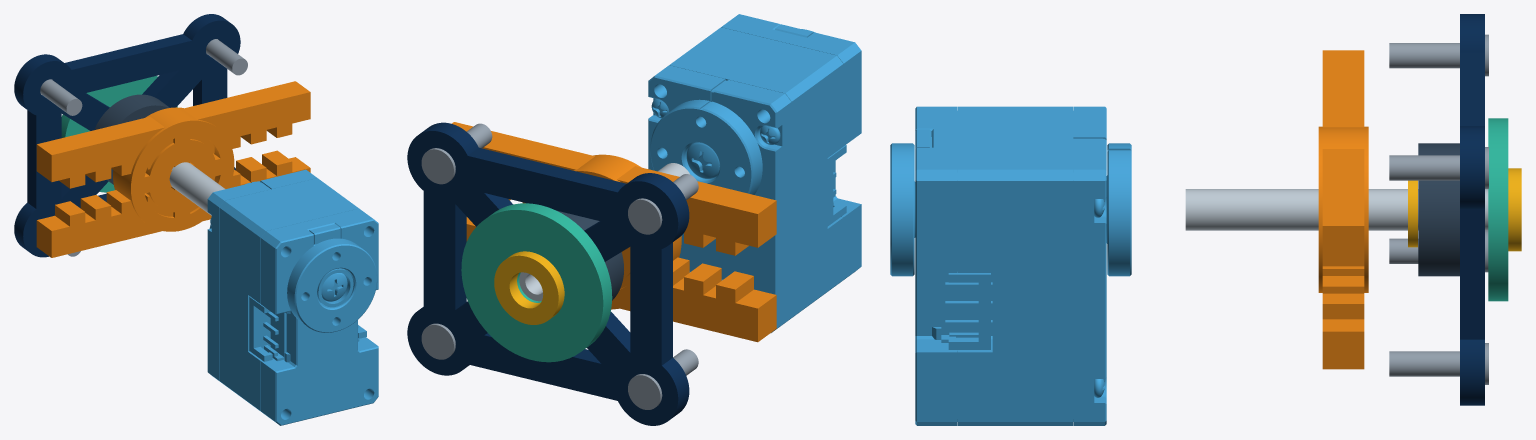
The model's file is JMF-02-GRIPPER_assembly.glb.
3 views of the same model, side by side, from view 1: azimuth 30°, elevation 25°; view 2: azimuth 150°, elevation 25°; view 3: azimuth 270°, elevation 25° (orthographic). The views are drawn at different scales.
Parts seen in each view (by area): view 1: ACTUATOR, CARRIER_B, RACK_UPPER, PINION, RACK_LOWER, OUTPUT_SHAFT, OUTPUT_ENCODER_CARRIER, BEARING_B, CARRIER_B_SCREW_22, CARRIER_B_SCREW_12; view 2: ACTUATOR, CARRIER_B, OUTPUT_ENCODER_CARRIER, RACK_UPPER, RACK_LOWER, OUTPUT_MAGNET_HUB, PINION, CARRIER_B_SCREW_22, CARRIER_B_SCREW_12, CARRIER_B_SCREW_21, CARRIER_B_SCREW_11, BEARING_B (+1 smaller); view 3: ACTUATOR, CARRIER_B, RACK_UPPER, OUTPUT_SHAFT, BEARING_B, RACK_LOWER, OUTPUT_ENCODER_CARRIER, PINION, CARRIER_B_SCREW_22, CARRIER_B_SCREW_11, CARRIER_B_SCREW_12, OUTPUT_MAGNET_HUB (+2 smaller).
Boxes of the visible parts, x1,y1,x2,y2 form: ACTUATOR: [207, 169, 378, 425]; CARRIER_B: [14, 14, 240, 257]; RACK_UPPER: [36, 81, 310, 188]; PINION: [113, 107, 234, 231]; RACK_LOWER: [36, 150, 310, 257]; OUTPUT_SHAFT: [169, 162, 225, 215]; OUTPUT_ENCODER_CARRIER: [61, 76, 177, 192]; BEARING_B: [94, 94, 169, 184]; CARRIER_B_SCREW_22: [40, 79, 82, 115]; CARRIER_B_SCREW_12: [206, 39, 247, 75]; ACTUATOR: [648, 14, 861, 332]; CARRIER_B: [407, 122, 689, 425]; OUTPUT_ENCODER_CARRIER: [461, 203, 612, 362]; RACK_UPPER: [452, 122, 776, 255]; RACK_LOWER: [466, 217, 776, 342]; OUTPUT_MAGNET_HUB: [494, 251, 564, 324]; PINION: [573, 154, 681, 309]; CARRIER_B_SCREW_22: [628, 174, 698, 234]; CARRIER_B_SCREW_12: [421, 123, 492, 184]; CARRIER_B_SCREW_21: [628, 349, 698, 409]; CARRIER_B_SCREW_11: [421, 323, 455, 359]; BEARING_B: [556, 210, 623, 300]; ACTUATOR: [890, 106, 1131, 425]; CARRIER_B: [1460, 14, 1484, 405]; RACK_UPPER: [1322, 50, 1364, 266]; OUTPUT_SHAFT: [1185, 189, 1488, 230]; BEARING_B: [1418, 143, 1459, 276]; RACK_LOWER: [1322, 266, 1364, 369]; OUTPUT_ENCODER_CARRIER: [1488, 118, 1508, 301]; PINION: [1318, 126, 1368, 292]; CARRIER_B_SCREW_22: [1389, 34, 1488, 76]; CARRIER_B_SCREW_11: [1389, 343, 1488, 384]; CARRIER_B_SCREW_12: [1389, 147, 1488, 188]; OUTPUT_MAGNET_HUB: [1508, 168, 1521, 251].
Bounding box in the file's own units: 50 × 42.5 × 75.9.
